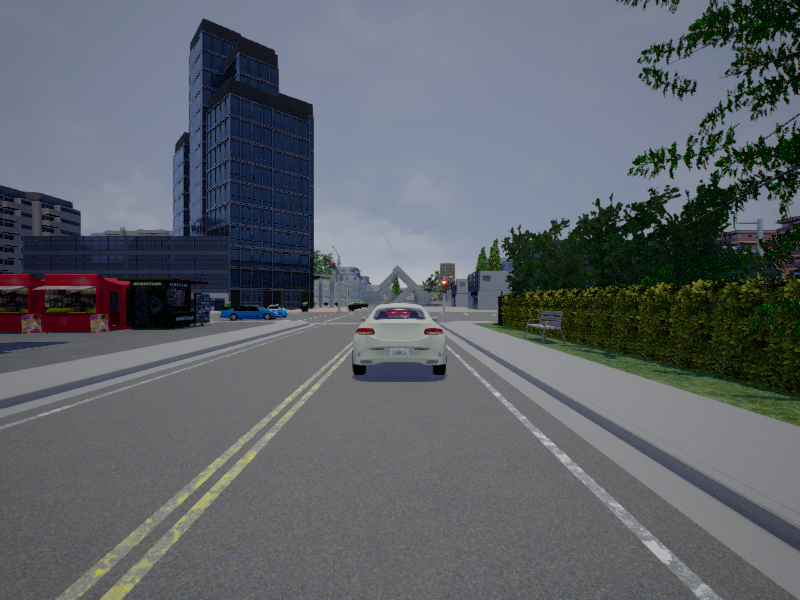Benign: (353, 303, 448, 377), (222, 304, 284, 322)
